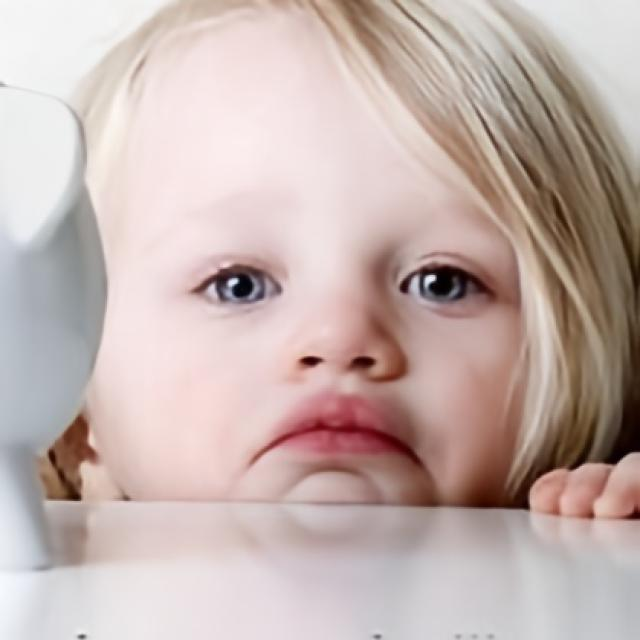sad: (84, 12, 552, 559)
